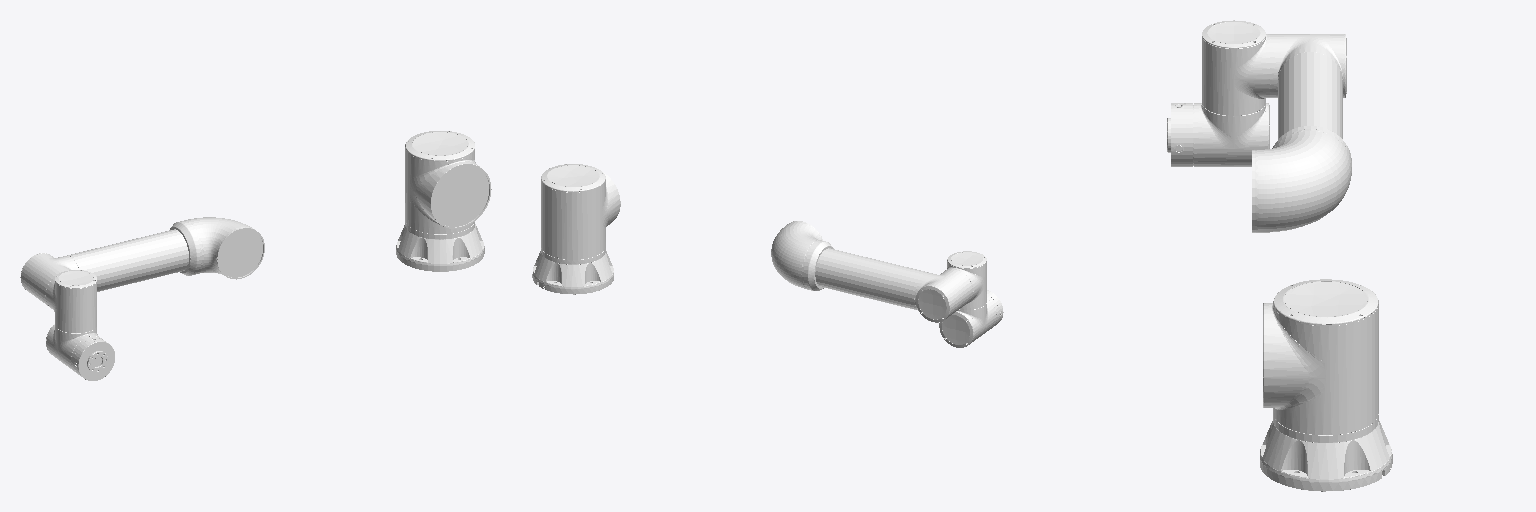
URDF robot description (fr30v6):
<robot name="fr30v6">

  <link name="world"/>

  <joint name="world_to_base" type="fixed">
    <parent link="world"/>
    <child link="base_link"/>
    <origin xyz="0 0 0" rpy="0 0 0"/>
  </joint>
<link
    name="base_link">
    <inertial>
      <origin
        xyz="-2.164E-05 -6.0529E-05 0.043457"
        rpy="0 0 0" />
      <mass
        value="9.2502" />
      <inertia
        ixx="0.034499"
        ixy="1.668E-05"
        ixz="-7.4694E-06"
        iyy="0.034518"
        iyz="-2.0864E-05"
        izz="0.05496" />
    </inertial>
    <visual>
      <origin
        xyz="0 0 0"
        rpy="0 0 0" />
      <geometry>
        <mesh
          filename="package://fr30v6_ros2_control/meshes/fr30/visual/base_link.dae" />
      </geometry>
      <material
        name="">
        <color
          rgba="1 1 1 1" />
      </material>
    </visual>
    <collision>
      <origin
        xyz="0 0 0"
        rpy="0 0 0" />
      <geometry>
        <mesh
          filename="package://fr30v6_ros2_control/meshes/fr30/collision/base_link.STL" />
      </geometry>
    </collision>
  </link>
  <link
    name="shoulder_Link">
    <inertial>
      <origin
        xyz="-0.00022 -0.03739 0.00559"
        rpy="0 0 0" />
      <mass
        value="20.64" />
      <inertia
        ixx="0.11481499"
        ixy="-0.00018622"
        ixz="-0.00016442"
        iyy="0.09113206"
        iyz="0.00434134"
        izz="0.1110047" />
    </inertial>
    <visual>
      <origin
        xyz="0 0 0"
        rpy="0 0 0" />
      <geometry>
        <mesh
          filename="package://fr30v6_ros2_control/meshes/fr30/visual/shoulder_Link.dae" />
      </geometry>
      <material
        name="">
        <color
          rgba="1 1 1 1" />
      </material>
    </visual>
    <collision>
      <origin
        xyz="0 0 0"
        rpy="0 0 0" />
      <geometry>
        <mesh
          filename="package://fr30v6_ros2_control/meshes/fr30/collision/shoulder_Link.STL" />
      </geometry>
    </collision>
  </link>
  <joint
    name="j1"
    type="revolute">
    <origin
      xyz="0 0 0"
      rpy="0 0 0" />
    <parent
      link="base_link" />
    <child
      link="shoulder_Link" />
    <axis
      xyz="0 0 1" />
    <limit
      lower="-3.0543"
      upper="3.0543"
      effort="1400"
      velocity="3.15" />
    <calibration
      rising="0"
      falling="0" />
    <dynamics
      damping="0"
      friction="0" />
    <safety_controller
      soft_upper="0"
      soft_lower="0"
      k_position="0"
      k_velocity="0" />
  </joint>
  <link
    name="uppperarm_Link">
    <inertial>
      <origin
        xyz="0.44073 0.00005 0.1987"
        rpy="0 0 0" />
      <mass
        value="36.37" />
      <inertia
        ixx="0.18277474"
        ixy="0.00190545"
        ixz="-0.0706475"
        iyy="3.78519224"
        iyz="0.00008997"
        izz="3.74631603" />
    </inertial>
    <visual>
      <origin
        xyz="0 0 0"
        rpy="0 0 0" />
      <geometry>
        <mesh
          filename="package://fr30v6_ros2_control/meshes/fr30/visual/upperarm_Link.dae" />
      </geometry>
      <material
        name="">
        <color
          rgba="1 1 1 1" />
      </material>
    </visual>
    <collision>
      <origin
        xyz="0 0 0"
        rpy="0 0 0" />
      <geometry>
        <mesh
          filename="package://fr30v6_ros2_control/meshes/fr30/collision/uppperarm_Link.STL" />
      </geometry>
    </collision>
  </link>
  <joint
    name="j2"
    type="revolute">
    <origin
      xyz="0 0 0.215"
      rpy="1.5708 0 0" />
    <parent
      link="shoulder_Link" />
    <child
      link="uppperarm_Link" />
    <axis
      xyz="0 0 1" />
    <limit
      lower="-4.6251"
      upper="1.4835"
      effort="1400"
      velocity="3.15" />
    <calibration
      rising="0"
      falling="0" />
    <dynamics
      damping="0"
      friction="0" />
    <safety_controller
      soft_upper="0"
      soft_lower="0"
      k_position="0"
      k_velocity="0" />
  </joint>
  <link
    name="forearm_Link">
    <inertial>
      <origin
        xyz="0.18564 0.00025 0.04582"
        rpy="0 0 0" />
      <mass
        value="8.41" />
      <inertia
        ixx="0.02573737"
        ixy="0.00019482"
        ixz="0.00617393"
        iyy="0.44349764"
        iyz="0.00000118"
        izz="0.4416692" />
    </inertial>
    <visual>
      <origin
        xyz="0 0 0"
        rpy="0 0 0" />
      <geometry>
        <mesh
          filename="package://fr30v6_ros2_control/meshes/fr30/visual/forearm_Link.dae" />
      </geometry>
      <material
        name="">
        <color
          rgba="1 1 1 1" />
      </material>
    </visual>
    <collision>
      <origin
        xyz="0 0 0"
        rpy="0 0 0" />
      <geometry>
        <mesh
          filename="package://fr30v6_ros2_control/meshes/fr30/collision/forearm_Link.STL" />
      </geometry>
    </collision>
  </link>
  <joint
    name="j3"
    type="revolute">
    <origin
      xyz="-0.7 0 0"
      rpy="0 0 0" />
    <parent
      link="uppperarm_Link" />
    <child
      link="forearm_Link" />
    <axis
      xyz="0 0 1" />
    <limit
      lower="-2.8274"
      upper="2.8274"
      effort="635"
      velocity="3.15" />
    <calibration
      rising="0"
      falling="0" />
    <dynamics
      damping="0"
      friction="0" />
    <safety_controller
      soft_upper="0"
      soft_lower="0"
      k_position="0"
      k_velocity="0" />
  </joint>
  <link
    name="wrist1_Link">
    <inertial>
      <origin
        xyz="0.00023 -0.00229 0.0186"
        rpy="0 0 0" />
      <mass
        value="4.64" />
      <inertia
        ixx="0.00931779"
        ixy="-0.00003338"
        ixz="-0.00005091"
        iyy="0.00924867"
        iyz="0.00022263"
        izz="0.00776467" />
    </inertial>
    <visual>
      <origin
        xyz="0 0 0"
        rpy="0 0 0" />
      <geometry>
        <mesh
          filename="package://fr30v6_ros2_control/meshes/fr30/visual/wrist1_Link.dae" />
      </geometry>
      <material
        name="">
        <color
          rgba="1 1 1 1" />
      </material>
    </visual>
    <collision>
      <origin
        xyz="0 0 0"
        rpy="0 0 0" />
      <geometry>
        <mesh
          filename="package://fr30v6_ros2_control/meshes/fr30/collision/wrist1_Link.STL" />
      </geometry>
    </collision>
  </link>
  <joint
    name="j4"
    type="revolute">
    <origin
      xyz="-0.536 0 0"
      rpy="0 0 0" />
    <parent
      link="forearm_Link" />
    <child
      link="wrist1_Link" />
    <axis
      xyz="0 0 1" />
    <limit
      lower="-4.6251"
      upper="1.4835"
      effort="332"
      velocity="3.2" />
    <calibration
      rising="0"
      falling="0" />
    <dynamics
      damping="0"
      friction="0" />
    <safety_controller
      soft_upper="0"
      soft_lower="0"
      k_position="0"
      k_velocity="0" />
  </joint>
  <link
    name="wrist2_Link">
    <inertial>
      <origin
        xyz="-0.00023 0.00229 0.0186"
        rpy="0 0 0" />
      <mass
        value="4.64" />
      <inertia
        ixx="0.00931779"
        ixy="-0.00003338"
        ixz="0.00005091"
        iyy="0.00924867"
        iyz="-0.00022263"
        izz="0.00776467" />
    </inertial>
    <visual>
      <origin
        xyz="0 0 0"
        rpy="0 0 0" />
      <geometry>
        <mesh
          filename="package://fr30v6_ros2_control/meshes/fr30/visual/wrist2_Link.dae" />
      </geometry>
      <material
        name="">
        <color
          rgba="1 1 1 1" />
      </material>
    </visual>
    <collision>
      <origin
        xyz="0 0 0"
        rpy="0 0 0" />
      <geometry>
        <mesh
          filename="package://fr30v6_ros2_control/meshes/fr30/collision/wrist2_Link.STL" />
      </geometry>
    </collision>
  </link>
  <joint
    name="j5"
    type="revolute">
    <origin
      xyz="0 0 0.16601"
      rpy="1.5708 0 0" />
    <parent
      link="wrist1_Link" />
    <child
      link="wrist2_Link" />
    <axis
      xyz="0 0 1" />
    <limit
      lower="-3.0543"
      upper="3.0543"
      effort="332"
      velocity="3.2" />
    <calibration
      rising="0"
      falling="0" />
    <dynamics
      damping="0"
      friction="0" />
    <safety_controller
      soft_upper="0"
      soft_lower="0"
      k_position="0"
      k_velocity="0" />
  </joint>
  <link
    name="wrist3_Link">
    <inertial>
      <origin
        xyz="-0.00211 -0.00196 -0.02038"
        rpy="0 0 0" />
      <mass
        value="0.6" />
      <inertia
        ixx="0.00071709"
        ixy="-0.00000175"
        ixz="0.00000555"
        iyy="0.00071408"
        iyz="0.00000531"
        izz="0.00127558" />
    </inertial>
    <visual>
      <origin
        xyz="0 0 0"
        rpy="0 0 0" />
      <geometry>
        <mesh
          filename="package://fr30v6_ros2_control/meshes/fr30/visual/wrist3_Link.dae" />
      </geometry>
      <material
        name="">
        <color
          rgba="1 1 1 1" />
      </material>
    </visual>
    <collision>
      <origin
        xyz="0 0 0"
        rpy="0 0 0" />
      <geometry>
        <mesh
          filename="package://fr30v6_ros2_control/meshes/fr30/collision/wrist3_Link.STL" />
      </geometry>
    </collision>
  </link>
  <joint
    name="j6"
    type="revolute">
    <origin
      xyz="0 0 0.138"
      rpy="-1.5708 0 0" />
    <parent
      link="wrist2_Link" />
    <child
      link="wrist3_Link" />
    <axis
      xyz="0 0 1" />
    <limit
      lower="-3.0543"
      upper="3.0543"
      effort="332"
      velocity="3.2" />
    <calibration
      rising="0"
      falling="0" />
    <dynamics
      damping="0"
      friction="0" />
    <safety_controller
      soft_upper="0"
      soft_lower="0"
      k_position="0"
      k_velocity="0" />
  </joint>
  <ros2_control name="GazeboSystem" type="system">
    <hardware>
      <plugin>gazebo_ros2_control/GazeboSystem</plugin>
    </hardware>
    <joint name="j1"><command_interface name="position"/><state_interface name="position"/><state_interface name="velocity"/></joint>
    <joint name="j2"><command_interface name="position"/><state_interface name="position"/><state_interface name="velocity"/></joint>
    <joint name="j3"><command_interface name="position"/><state_interface name="position"/><state_interface name="velocity"/></joint>
    <joint name="j4"><command_interface name="position"/><state_interface name="position"/><state_interface name="velocity"/></joint>
    <joint name="j5"><command_interface name="position"/><state_interface name="position"/><state_interface name="velocity"/></joint>
    <joint name="j6"><command_interface name="position"/><state_interface name="position"/><state_interface name="velocity"/></joint>
  </ros2_control>

  <gazebo>
    <plugin name="gazebo_ros2_control" filename="libgazebo_ros2_control.so">
      <robot_param>robot_description</robot_param>
      <parameters>package://fr30v6_ros2_control/config/robot_params.yaml</parameters>
    </plugin>
  </gazebo>
  <gazebo>
    <plugin name="joint_state_publisher" filename="libgazebo_ros_joint_state_publisher.so">
      <ros>
        <namespace>fr30v6</namespace>
        <remapping>joint_states:=joint_states</remapping>
      </ros>
      <update_rate>100</update_rate>
      <joint_name>j1</joint_name>
      <joint_name>j2</joint_name>
      <joint_name>j3</joint_name>
      <joint_name>j4</joint_name>
      <joint_name>j5</joint_name>
      <joint_name>j6</joint_name>
    </plugin>
  </gazebo>

</robot>

--- Render facts (derived) ---
3 views of the same robot in one strip: view 1: azimuth 30°, elevation 25°; view 2: azimuth 150°, elevation 25°; view 3: azimuth 270°, elevation 25° (orthographic).
Model fr30v6 with 8 links and 7 joints (6 revolute, 1 fixed), rooted at world, posed every joint at zero.
Visible links, largest first — view 1: forearm_Link, shoulder_Link, base_link, wrist1_Link, wrist3_Link, wrist2_Link; view 2: forearm_Link, shoulder_Link, base_link, wrist2_Link, wrist1_Link; view 3: shoulder_Link, forearm_Link, base_link, wrist1_Link, wrist2_Link, wrist3_Link.
Link boxes in pixels (x1=…): forearm_Link: x1=20, y1=217, x2=264, y2=305; shoulder_Link: x1=405, y1=131, x2=491, y2=233; base_link: x1=396, y1=221, x2=484, y2=271; wrist1_Link: x1=46, y1=270, x2=96, y2=332; wrist3_Link: x1=71, y1=336, x2=114, y2=380; wrist2_Link: x1=46, y1=324, x2=98, y2=371; forearm_Link: x1=771, y1=221, x2=972, y2=322; shoulder_Link: x1=541, y1=164, x2=620, y2=259; base_link: x1=532, y1=248, x2=613, y2=294; wrist2_Link: x1=939, y1=299, x2=996, y2=347; wrist1_Link: x1=945, y1=251, x2=986, y2=309; shoulder_Link: x1=1263, y1=279, x2=1378, y2=434; forearm_Link: x1=1252, y1=34, x2=1351, y2=232; base_link: x1=1260, y1=414, x2=1392, y2=491; wrist1_Link: x1=1202, y1=20, x2=1269, y2=115; wrist2_Link: x1=1193, y1=103, x2=1269, y2=166; wrist3_Link: x1=1167, y1=103, x2=1192, y2=166.
Size in the robot's own frame: 1.41 by 0.406 by 0.327 metres.
6 mesh visuals loaded from 7 distinct referenced files (6 Collada DAE); not drawn: 1 (reference not matched to a file when rendering).
